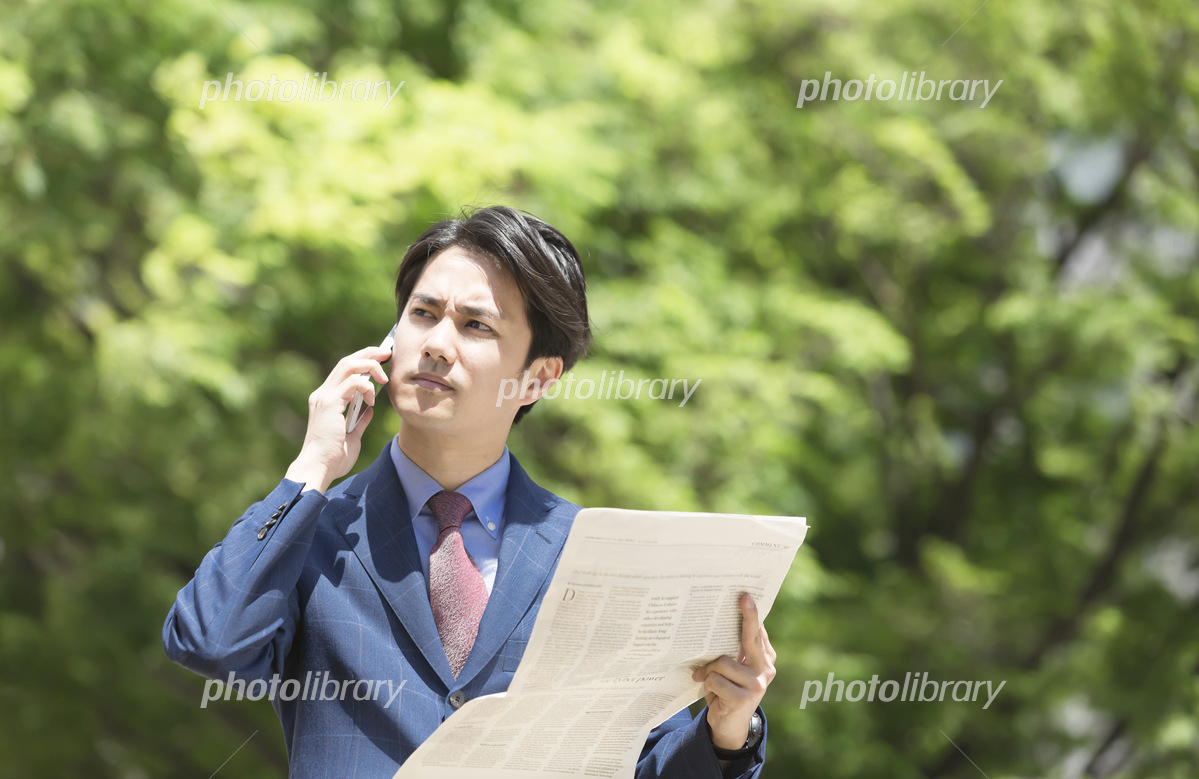phone: (305, 320, 401, 438)
talk: (301, 284, 517, 479)
